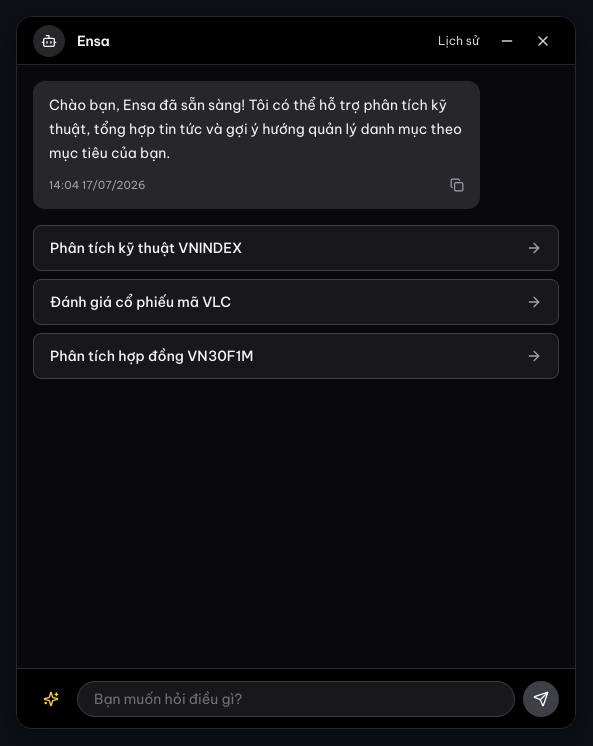
Test: ChatPanel thinking overlay › does not render thinking trace card after response
Type "Fallback duration" into the field with placeholder "Bạn muốn hỏi điều gì?".
click(296, 698); type("Fallback duration")  # box [77,680,515,716]
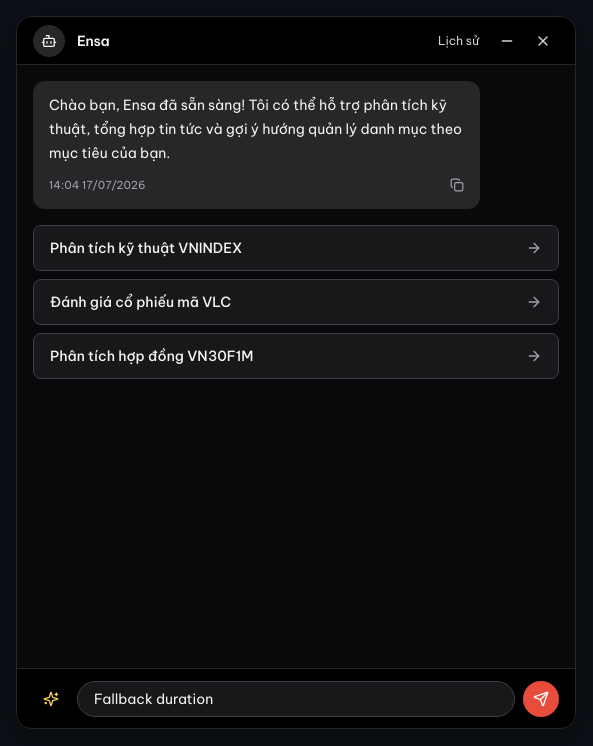
Click the button named "Gửi tin nhắn".
click(541, 698)  # box [523,680,559,716]
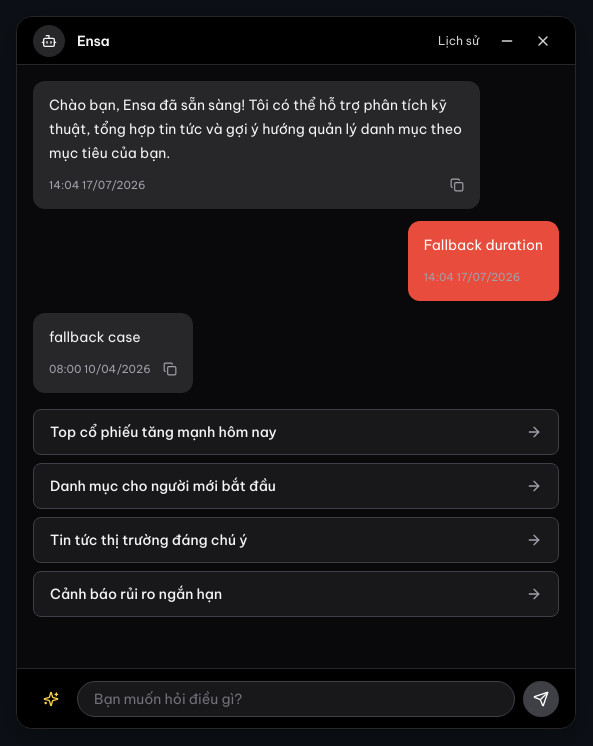
Now the text "fallback case" is shown, box [49,328,141,346]
